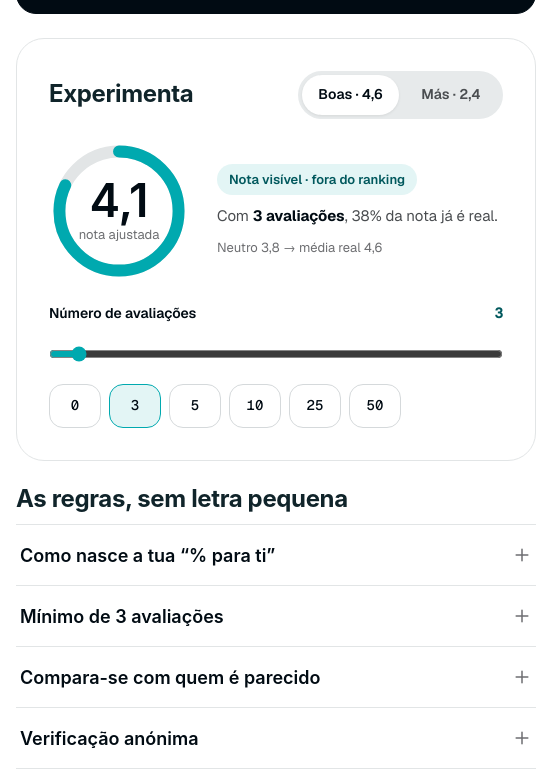
Test: Metodologia (mobile) › atalhos, cursor e avaliações más
(page scrolled)
Step 1. Click the button "0" → x=75, y=406, box x1=49 y1=384 x2=101 y2=428
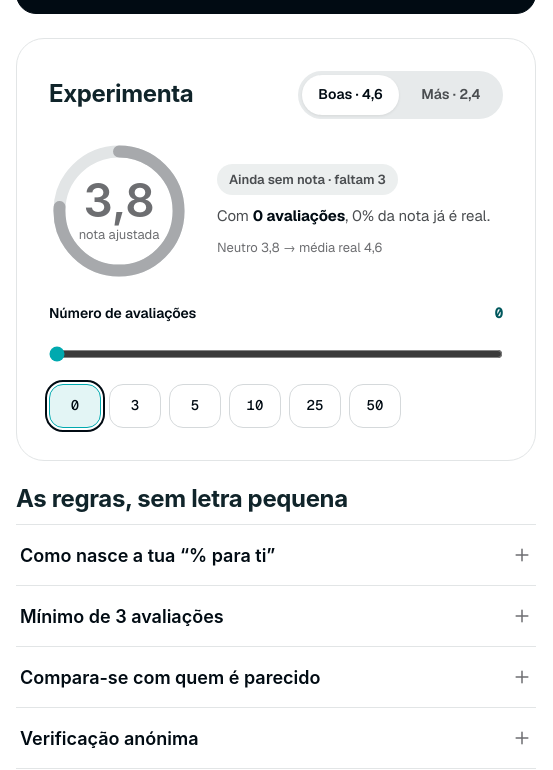
Result: the picture named "Nota ajustada 3,8 de 5 com 0 avaliações, ainda não publicada" is shown at x1=79 y1=172 x2=159 y2=243
Result: the text "Ainda sem nota · faltam 3" is shown at x1=217 y1=164 x2=398 y2=195
Step 2. Set the slider labelled "Número de avaliações 0" to "1" → x=64, y=354, box x1=49 y1=332 x2=503 y2=376
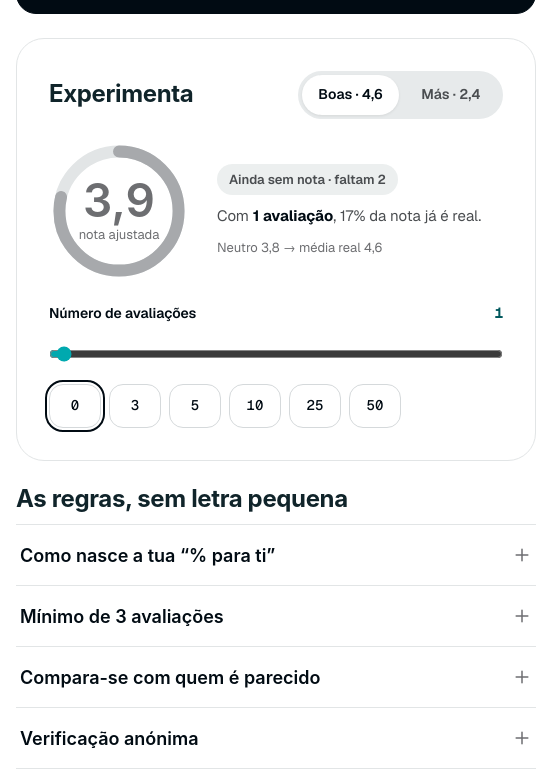
Step 3. Click the button "5" → x=195, y=406, box x1=169 y1=384 x2=221 y2=428
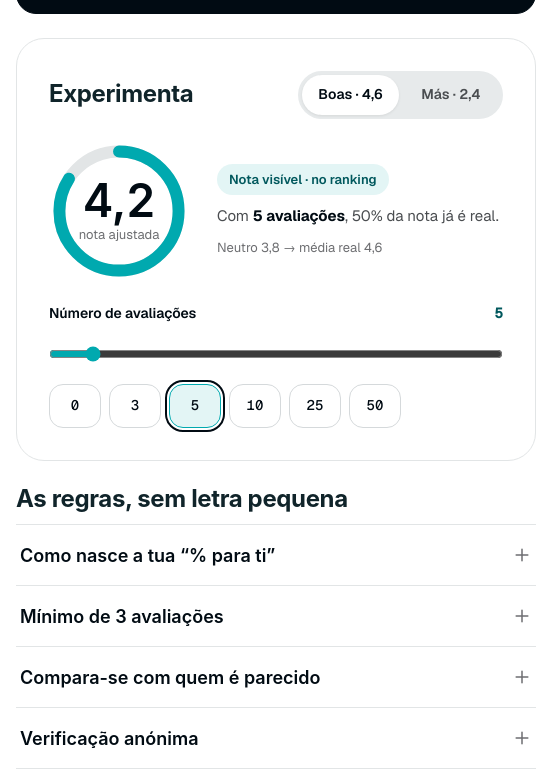
Result: the text "Nota visível · no ranking" is shown at x1=217 y1=164 x2=389 y2=195
Step 4. Click the button "Más · 2,4" → x=451, y=94, box x1=403 y1=74 x2=499 y2=114
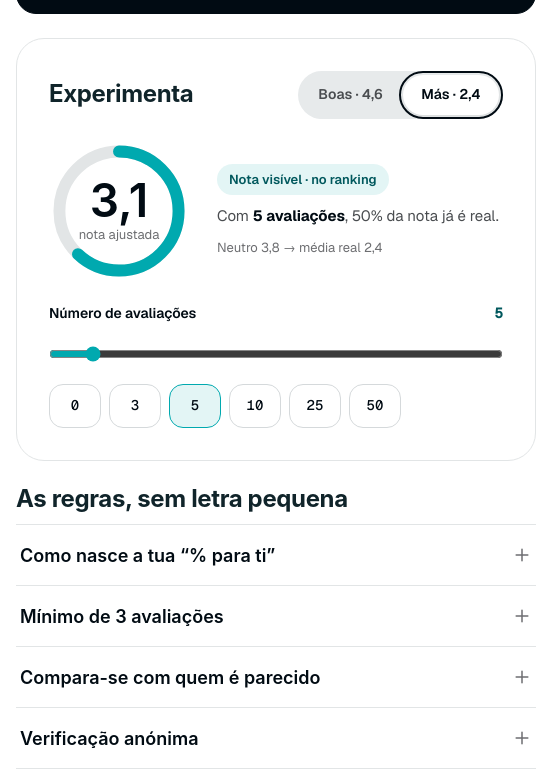
Result: the picture named "Nota ajustada 3,1 de 5 com 5 avaliações" is shown at x1=79 y1=172 x2=159 y2=243
